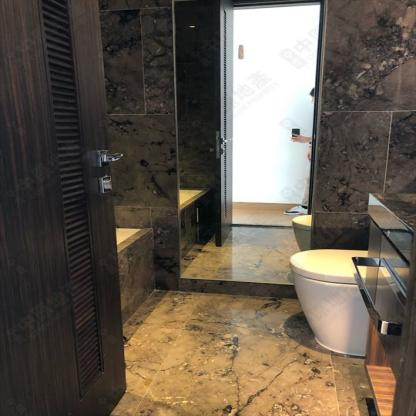Bathtub: (116, 225, 153, 324), (180, 188, 200, 260)
Toilet: (290, 249, 366, 356), (290, 214, 313, 251)
